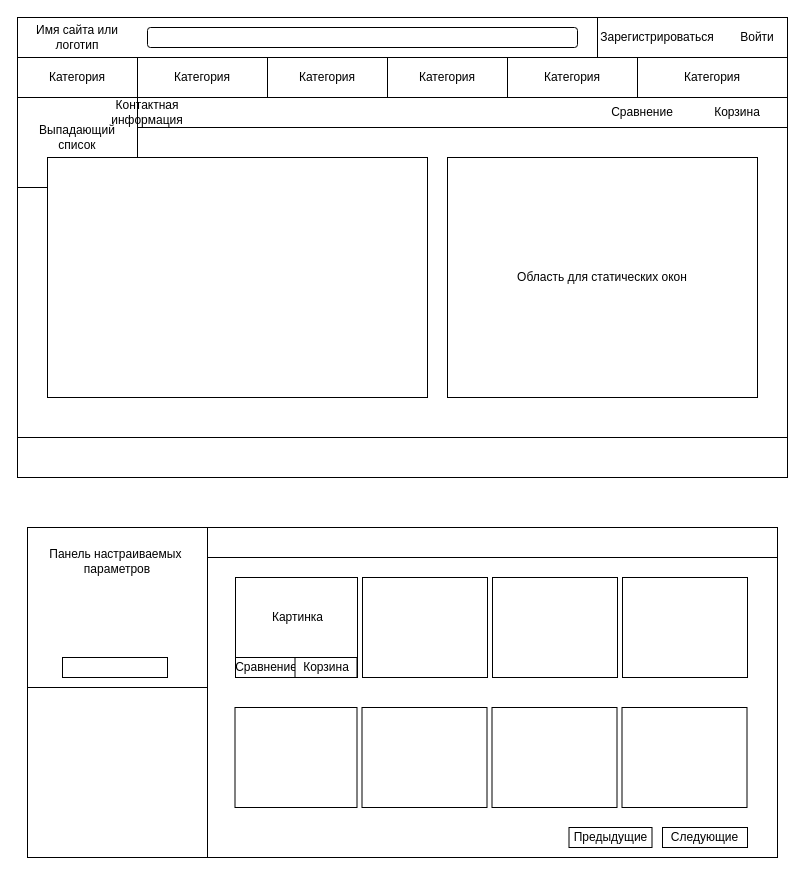
Image size: 805x875. Some labels were removed from this diagram. The shapes that lost their labels are listed below. From the top down, each one's centre as x and y in pixels, then its label:
At (x=362, y=37): "Поиск".
At (x=237, y=277): "Динамическое окно новостей".
At (x=402, y=457): "Доп информация".
At (x=492, y=542): "Кол-во отображаемых".
At (x=115, y=667): "Доп параметры".
